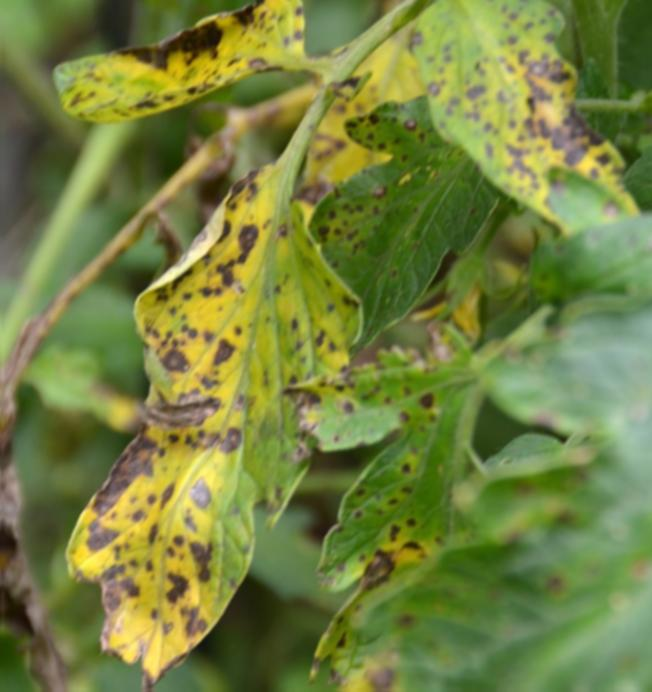Tomato Septoria leaf spot: (30, 150, 355, 683), (304, 325, 513, 684), (421, 0, 641, 234), (48, 0, 320, 128)
